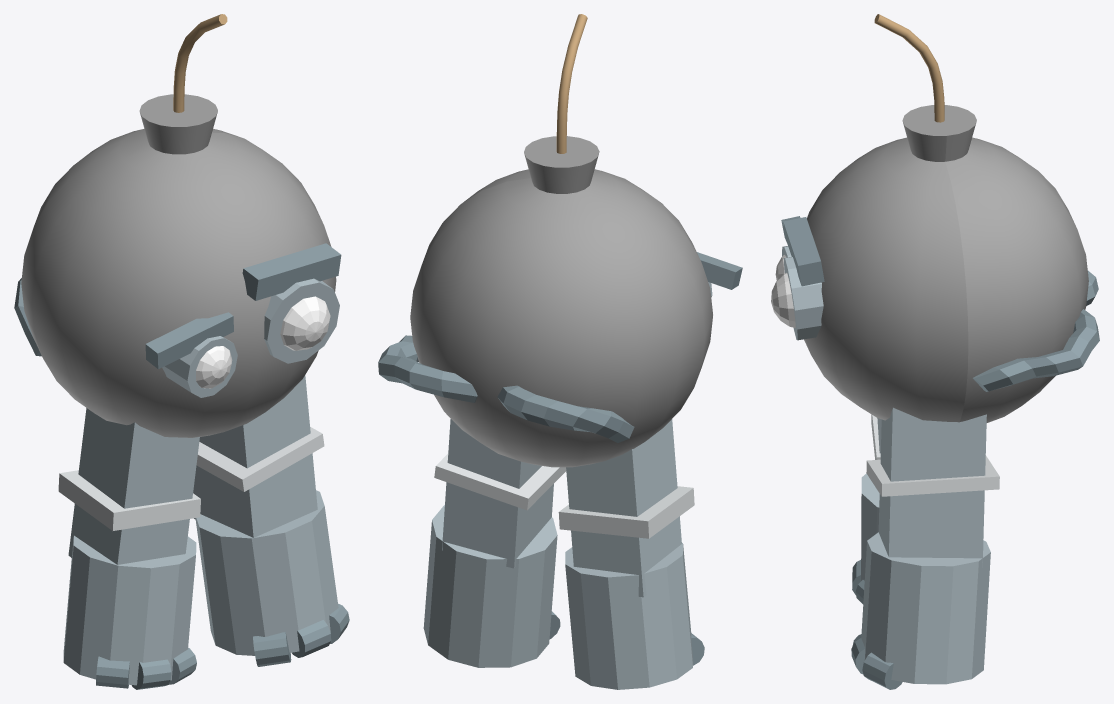
Rendered from Bomb Robot.fbx.
3 views of the same model, side by side, from view 1: azimuth 30°, elevation 25°; view 2: azimuth 150°, elevation 25°; view 3: azimuth 270°, elevation 25° (orthographic). The views are drawn at different scales.
Visible parts, largest first — view 1: NurbsPath_Mesh, mesh_502435835, mesh_1736942996, mesh_1855142725, mesh_35118021, mesh_410933158, mesh_1802810241, mesh_2009306842, mesh_541375229, mesh_844476444, mesh_315606172, mesh_1728465871 (+8 smaller); view 2: NurbsPath_Mesh, mesh_502435835, mesh_1736942996, mesh_1855142725, mesh_35118021, group_607484991.001, mesh_410933158, group_705927006.001, mesh_2009306842, mesh_844476444; view 3: NurbsPath_Mesh, mesh_502435835, mesh_35118021, group_705927006.001, mesh_2009306842, mesh_541375229, mesh_1802810241, mesh_1736942996, mesh_315606172, mesh_1662538163.
Boxes of the visible parts, x1=… form: NurbsPath_Mesh: x1=21, y1=14, x2=336, y2=437; mesh_502435835: x1=195, y1=490, x2=338, y2=655; mesh_1736942996: x1=63, y1=535, x2=196, y2=685; mesh_1855142725: x1=68, y1=408, x2=199, y2=564; mesh_35118021: x1=193, y1=375, x2=317, y2=537; mesh_410933158: x1=58, y1=470, x2=200, y2=530; mesh_1802810241: x1=242, y1=243, x2=341, y2=300; mesh_2009306842: x1=196, y1=426, x2=324, y2=491; mesh_541375229: x1=264, y1=278, x2=339, y2=363; mesh_844476444: x1=145, y1=312, x2=233, y2=369; mesh_315606172: x1=280, y1=296, x2=330, y2=350; mesh_1728465871: x1=162, y1=336, x2=237, y2=397; NurbsPath_Mesh: x1=410, y1=14, x2=712, y2=467; mesh_502435835: x1=423, y1=505, x2=557, y2=667; mesh_1736942996: x1=565, y1=543, x2=693, y2=689; mesh_1855142725: x1=566, y1=419, x2=681, y2=597; mesh_35118021: x1=442, y1=419, x2=553, y2=568; group_607484991.001: x1=497, y1=385, x2=634, y2=442; mesh_410933158: x1=558, y1=486, x2=694, y2=538; group_705927006.001: x1=378, y1=335, x2=477, y2=402; mesh_2009306842: x1=434, y1=453, x2=566, y2=510; mesh_844476444: x1=697, y1=252, x2=742, y2=289; NurbsPath_Mesh: x1=804, y1=14, x2=1088, y2=422; mesh_502435835: x1=861, y1=532, x2=990, y2=684; mesh_35118021: x1=878, y1=407, x2=986, y2=567; group_705927006.001: x1=973, y1=309, x2=1099, y2=391; mesh_2009306842: x1=866, y1=455, x2=999, y2=496; mesh_541375229: x1=783, y1=257, x2=823, y2=340; mesh_1802810241: x1=783, y1=217, x2=824, y2=286; mesh_1736942996: x1=861, y1=473, x2=879, y2=580; mesh_315606172: x1=771, y1=272, x2=795, y2=327; mesh_1662538163: x1=862, y1=652, x2=902, y2=689.
Bounding box in the file's own units: 163 × 370 × 176.
